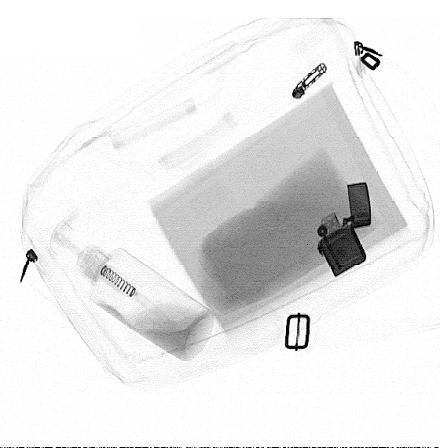Lighter: (316, 182, 372, 278)
